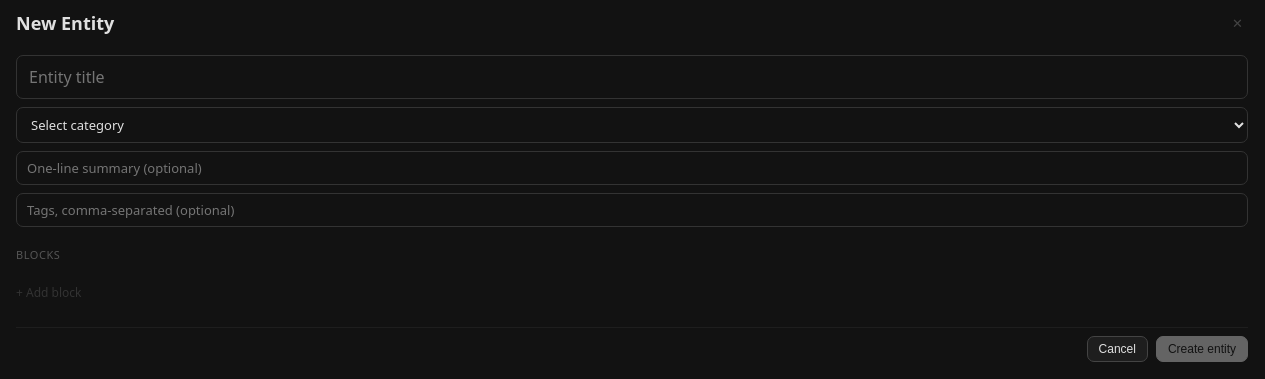
EntityEditor tag suggestions › matches the token after the last comma, prefix matches before substring ones
This screenshot has width=1265, height=379.
In the dropdown with placeholder "Tags, comma-separated (optional)": (632, 210) [16,193,1248,227], type "alpha, ca"
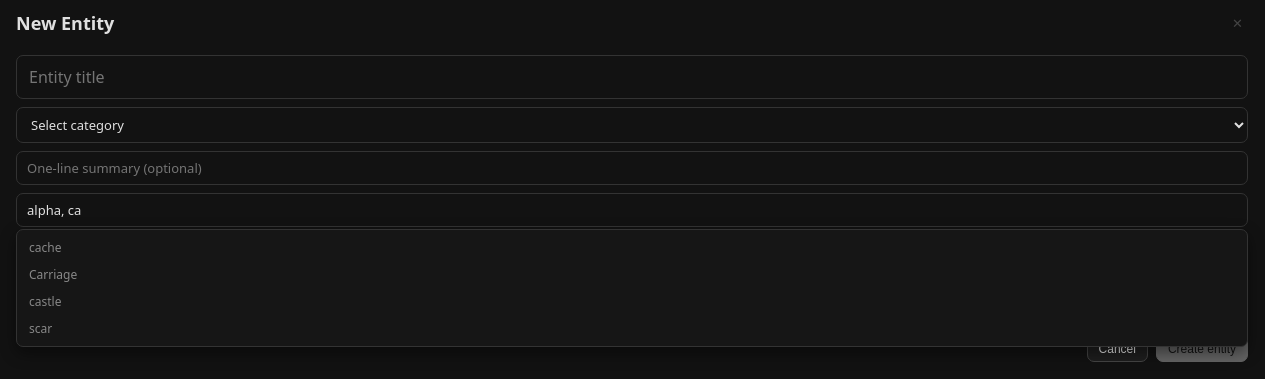
Now the option no longer shows "alpha"
